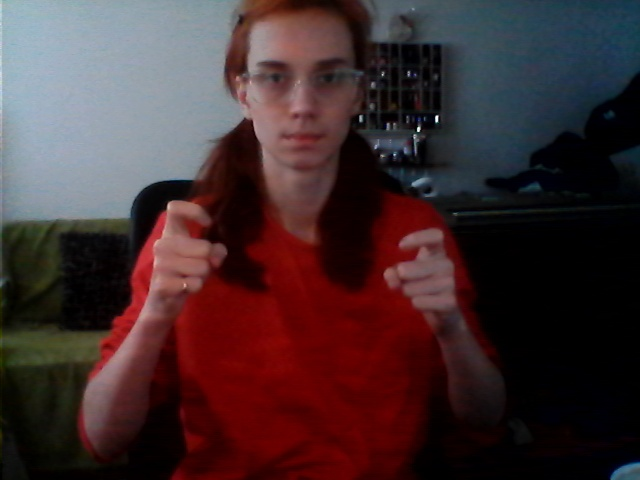davat: (138, 196, 460, 322)
